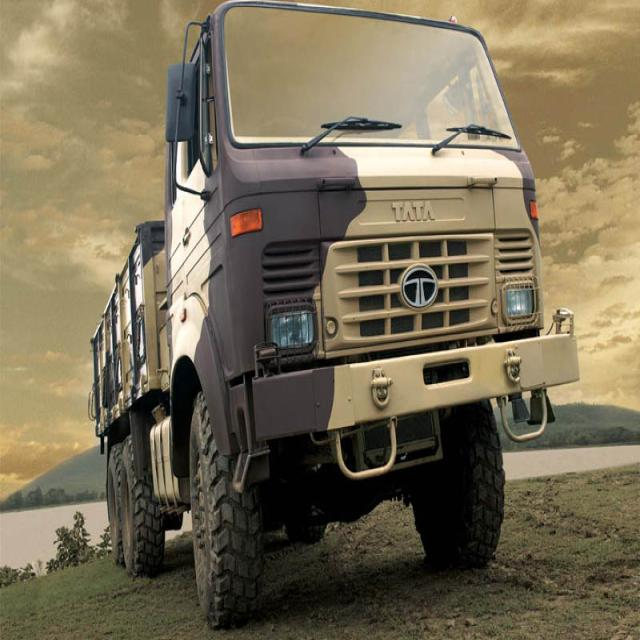truck: (89, 4, 579, 627)
